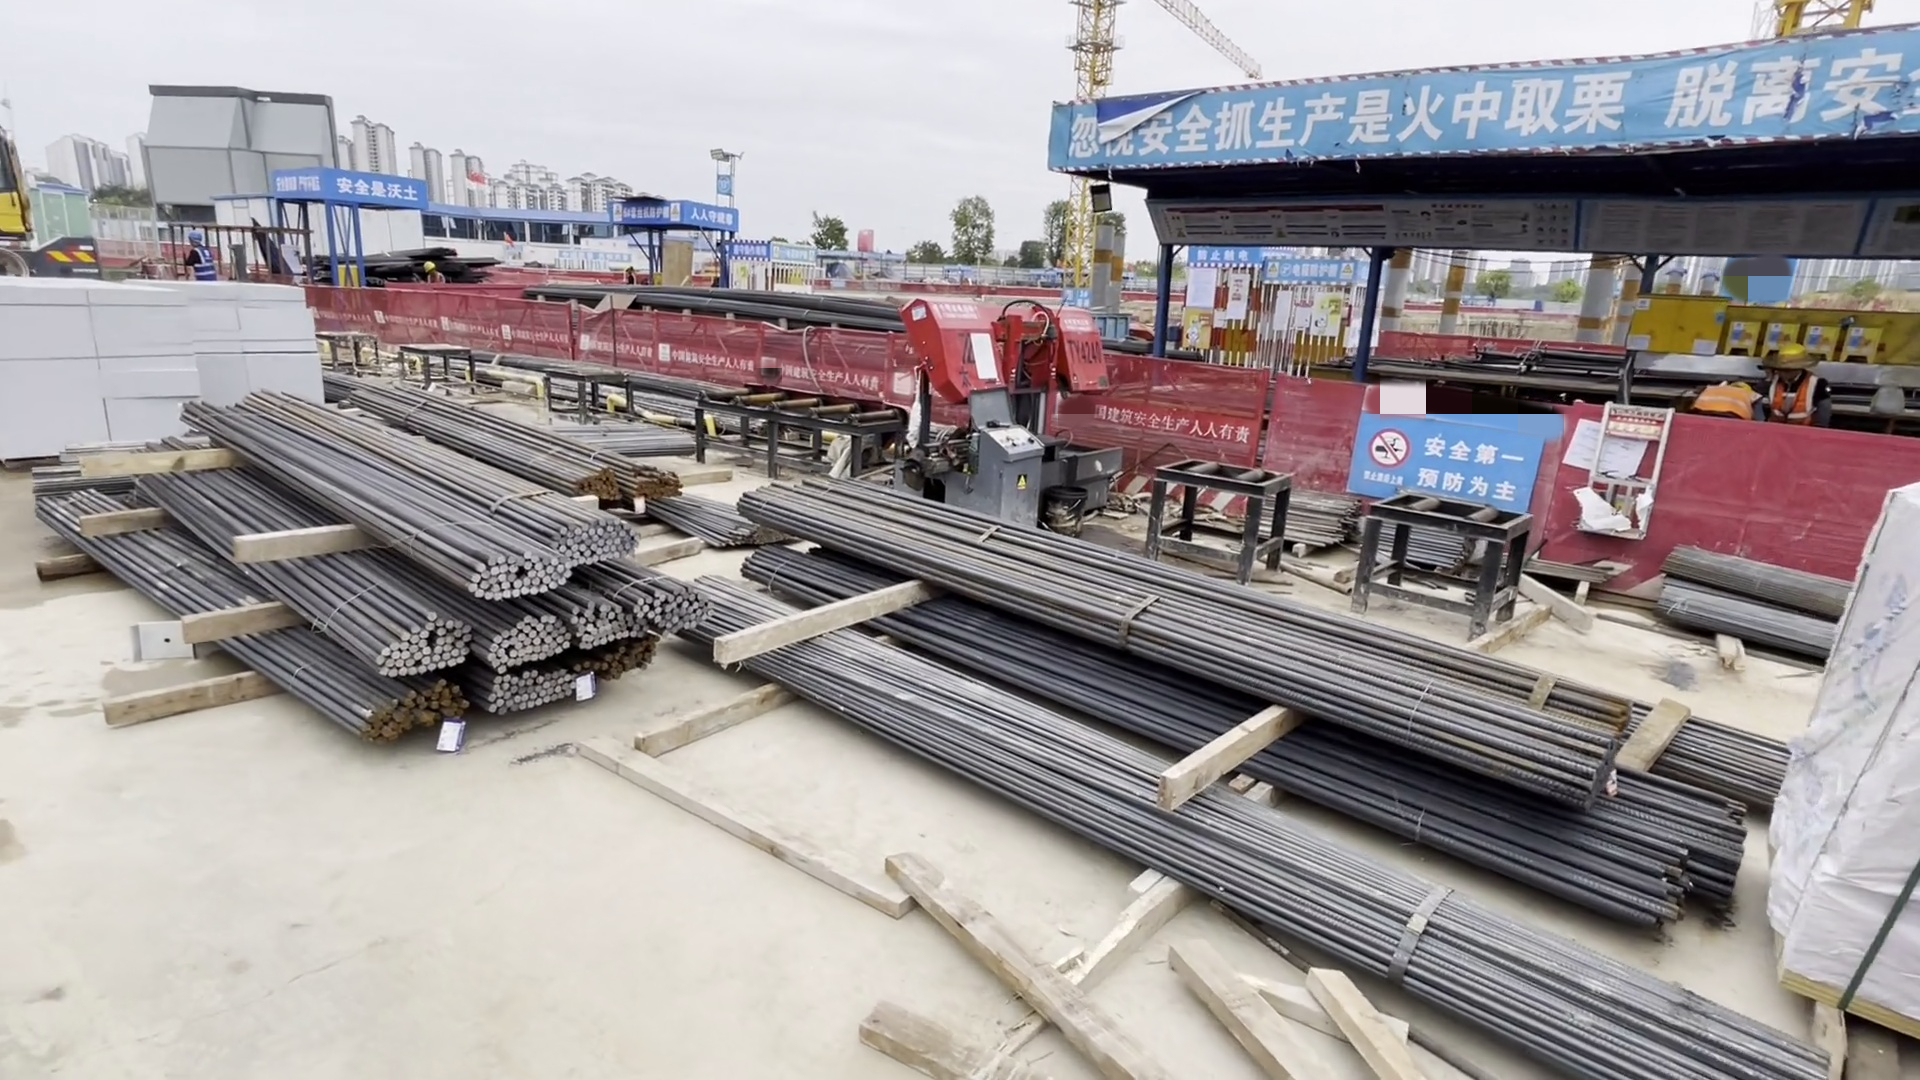brick: (1, 280, 328, 459)
fence: (306, 268, 916, 446)
rebar: (709, 483, 1807, 1080), (38, 372, 704, 762)
slogan: (1029, 40, 1898, 170), (1346, 375, 1547, 527), (265, 162, 421, 208), (595, 196, 741, 233)
